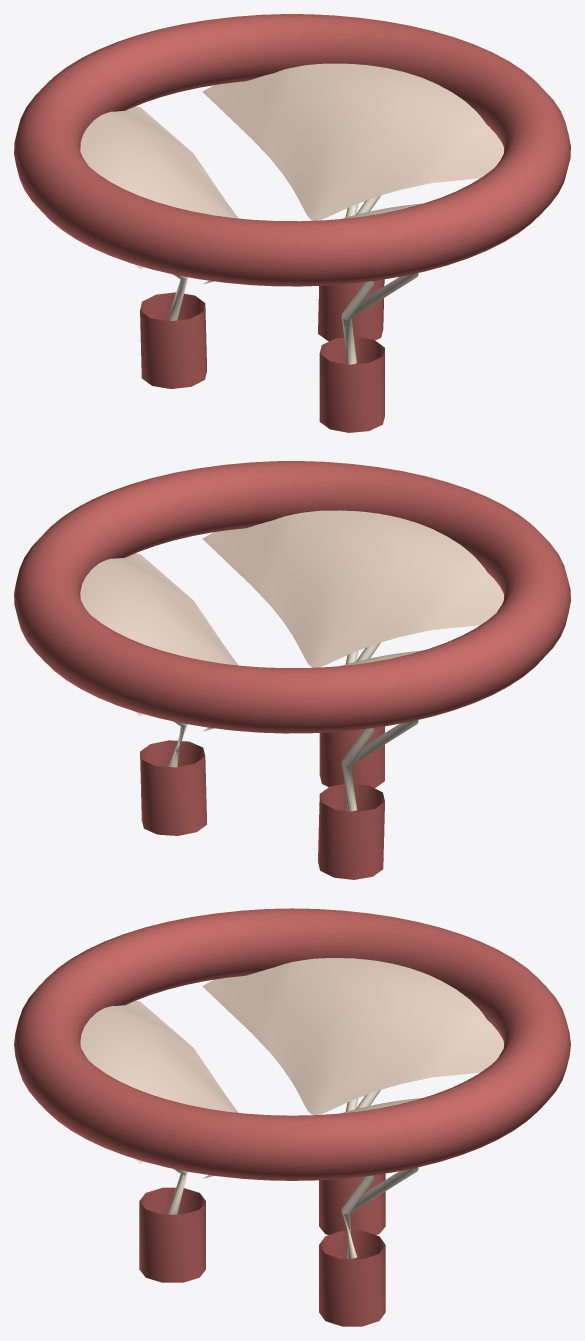
File: tricuspid.glb
The picture shows the model from 3 angles, top to bottom: view 1: azimuth 30°, elevation 25°; view 2: azimuth 150°, elevation 25°; view 3: azimuth 270°, elevation 25°; orthographic projection.
Visible parts, largest first — view 1: AnnulusTricuspid, LeafletTricuspid3, LeafletTricuspid2, PapillaryTricuspid2, PapillaryTricuspid1, PapillaryTricuspid3, ChordaeTricuspid1B, ChordaeTricuspid1A; view 2: AnnulusTricuspid, LeafletTricuspid1, LeafletTricuspid3, PapillaryTricuspid3, PapillaryTricuspid2, PapillaryTricuspid1, ChordaeTricuspid2A; view 3: AnnulusTricuspid, LeafletTricuspid2, LeafletTricuspid1, PapillaryTricuspid3, PapillaryTricuspid1, PapillaryTricuspid2, ChordaeTricuspid3A, ChordaeTricuspid3B.
Boxes of the visible parts, x1,y1,x2,y2 form: AnnulusTricuspid: (14, 14, 570, 286); LeafletTricuspid3: (202, 63, 503, 220); LeafletTricuspid2: (80, 106, 238, 269); PapillaryTricuspid2: (140, 292, 206, 388); PapillaryTricuspid1: (319, 336, 384, 432); PapillaryTricuspid3: (318, 279, 384, 341); ChordaeTricuspid1B: (341, 281, 374, 364); ChordaeTricuspid1A: (343, 273, 418, 355); AnnulusTricuspid: (14, 461, 570, 733); LeafletTricuspid1: (202, 510, 503, 667); LeafletTricuspid3: (80, 553, 238, 716); PapillaryTricuspid3: (140, 740, 206, 835); PapillaryTricuspid2: (318, 783, 384, 879); PapillaryTricuspid1: (319, 726, 384, 788); ChordaeTricuspid2A: (342, 720, 418, 811); AnnulusTricuspid: (14, 908, 570, 1180); LeafletTricuspid2: (202, 958, 503, 1115); LeafletTricuspid1: (80, 1000, 238, 1163); PapillaryTricuspid3: (319, 1230, 385, 1326); PapillaryTricuspid1: (139, 1187, 205, 1282); PapillaryTricuspid2: (319, 1173, 385, 1234); ChordaeTricuspid3A: (343, 1167, 418, 1258); ChordaeTricuspid3B: (341, 1175, 374, 1253).
Bounding box in the file's own units: 2 × 1.01 × 2.
